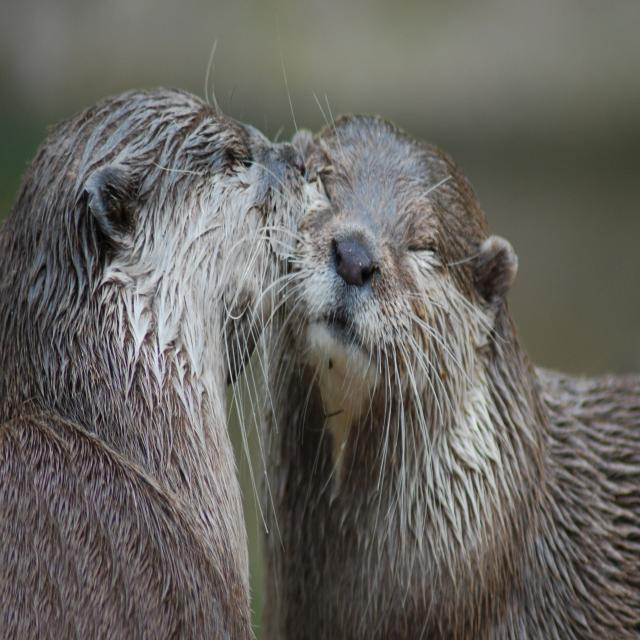otter: (1, 87, 304, 640), (268, 118, 550, 637)
